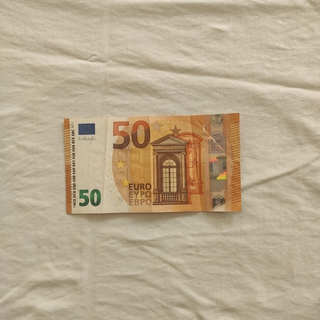50EUROFront: (61, 112, 242, 214)
